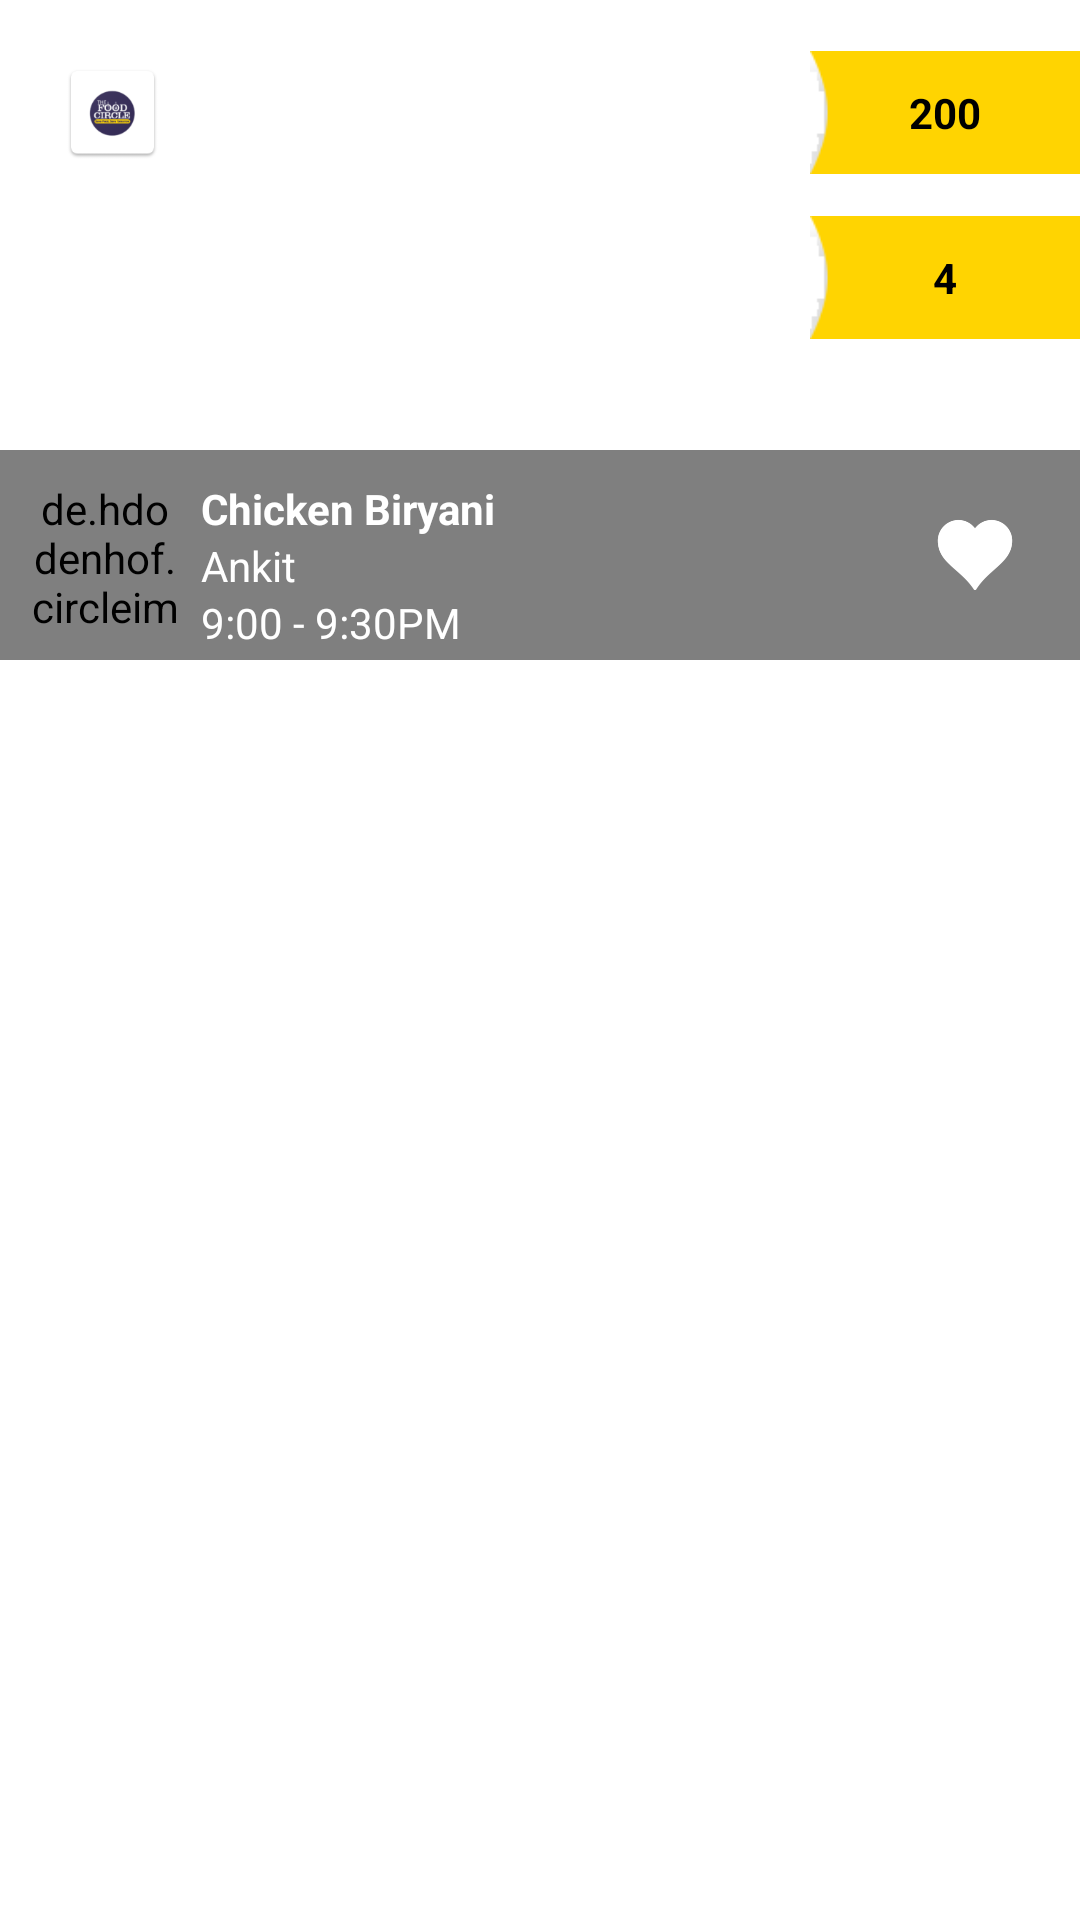

Point at icon controls on the screen. Image size 1080x1920, points as point (x, y).
fav: point (975, 555)
